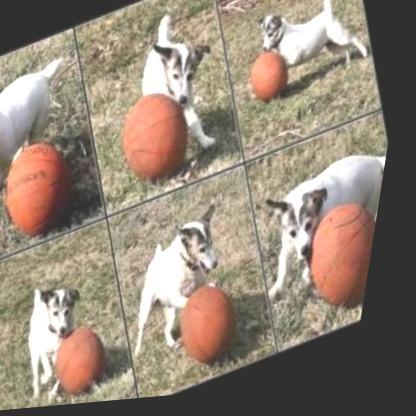basketball: (0, 127, 106, 246), (295, 197, 388, 329), (169, 272, 273, 384), (109, 83, 212, 193), (47, 317, 133, 406), (237, 45, 305, 115)
